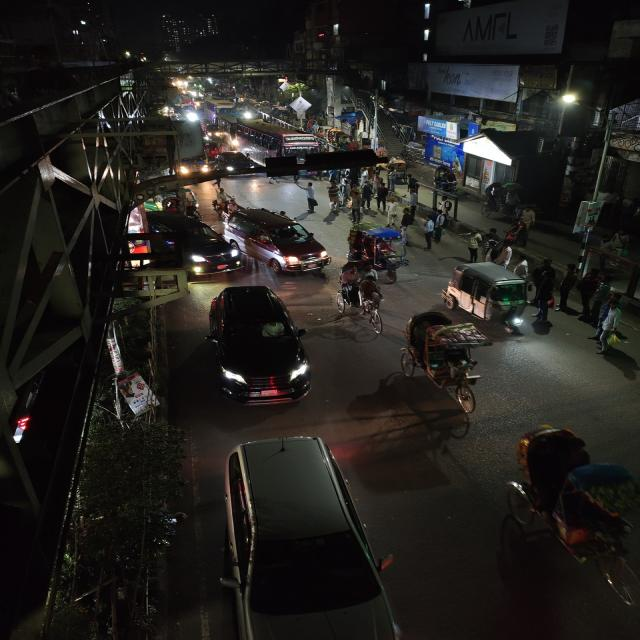bus: (229, 119, 319, 161), (205, 97, 235, 118)
car: (214, 432, 396, 640), (202, 282, 317, 410), (225, 206, 333, 274), (155, 214, 242, 278), (212, 151, 261, 178)
cng: (441, 260, 536, 328), (200, 121, 227, 143)
pedestrian: (577, 268, 604, 314), (556, 264, 580, 310), (596, 328, 624, 356), (345, 189, 366, 225), (534, 288, 558, 318), (461, 230, 484, 261), (421, 213, 440, 248), (396, 206, 417, 237), (323, 180, 344, 210), (536, 256, 557, 284), (300, 180, 318, 211), (512, 219, 531, 248), (498, 240, 516, 269), (373, 182, 390, 212), (483, 227, 500, 257), (360, 181, 376, 209), (515, 256, 532, 280), (210, 177, 226, 197)
rickshaw: (496, 424, 640, 634), (396, 308, 499, 409), (331, 262, 386, 332), (348, 228, 411, 282)
truck: (264, 155, 300, 184)
